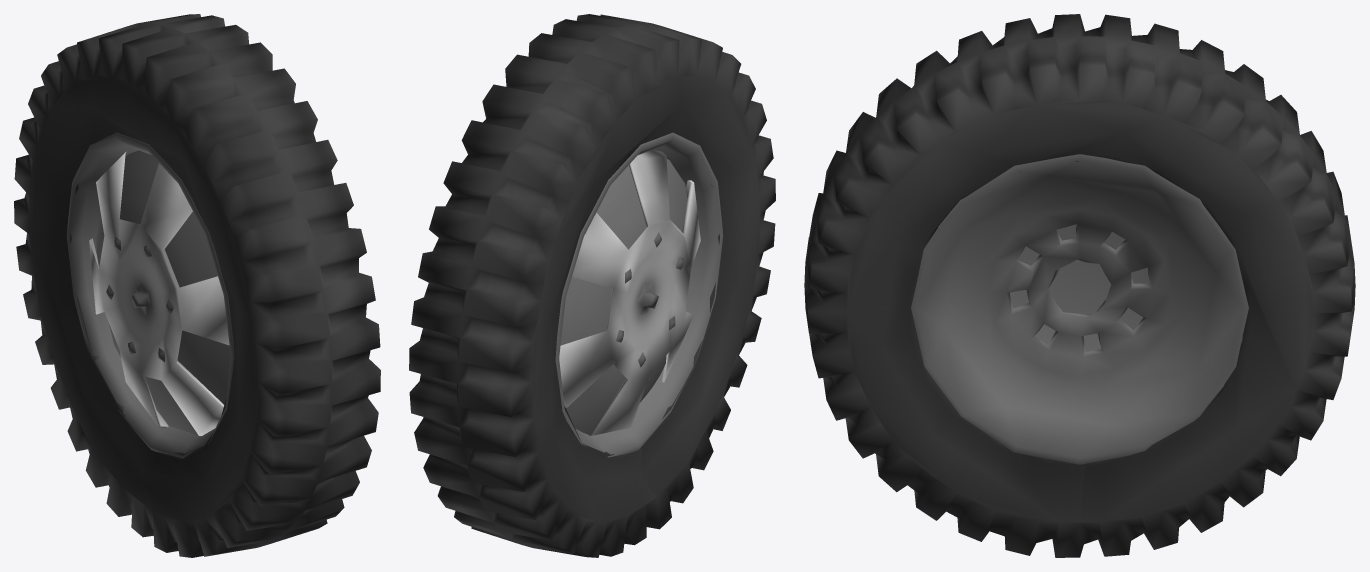
Rendered from OT_wheel_front_d2.obj.
3 renders of one model, left to right at view 1: azimuth 30°, elevation 25°; view 2: azimuth 150°, elevation 25°; view 3: azimuth 270°, elevation 25°, orthographic. The views are drawn at different scales.
Parts seen in each view (by area): view 1: OT_wheel_front; view 2: OT_wheel_front; view 3: OT_wheel_front.
Part boxes in pixels (<box>): OT_wheel_front: <box>14,14,380,557</box>; OT_wheel_front: <box>409,14,775,557</box>; OT_wheel_front: <box>804,14,1355,557</box>.
Size of the model in its own units: 0.2513 by 0.9916 by 0.9912.
1 material, 1 textured.
